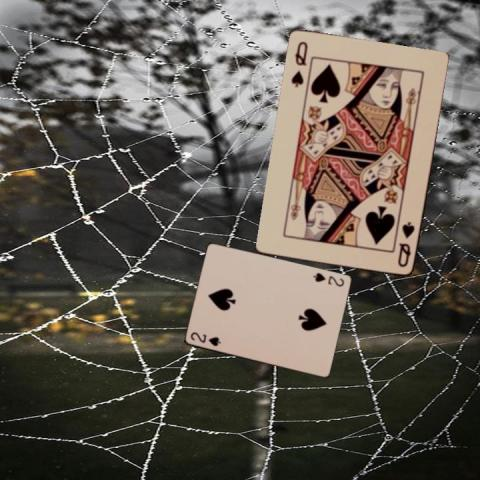2s: (187, 329, 222, 348), (311, 270, 345, 288)
Qs: (394, 219, 417, 269), (289, 38, 309, 88)
